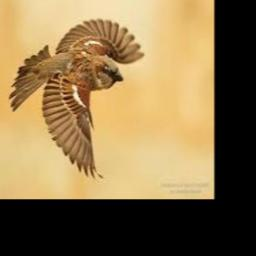Sparrow: (9, 18, 145, 178)
